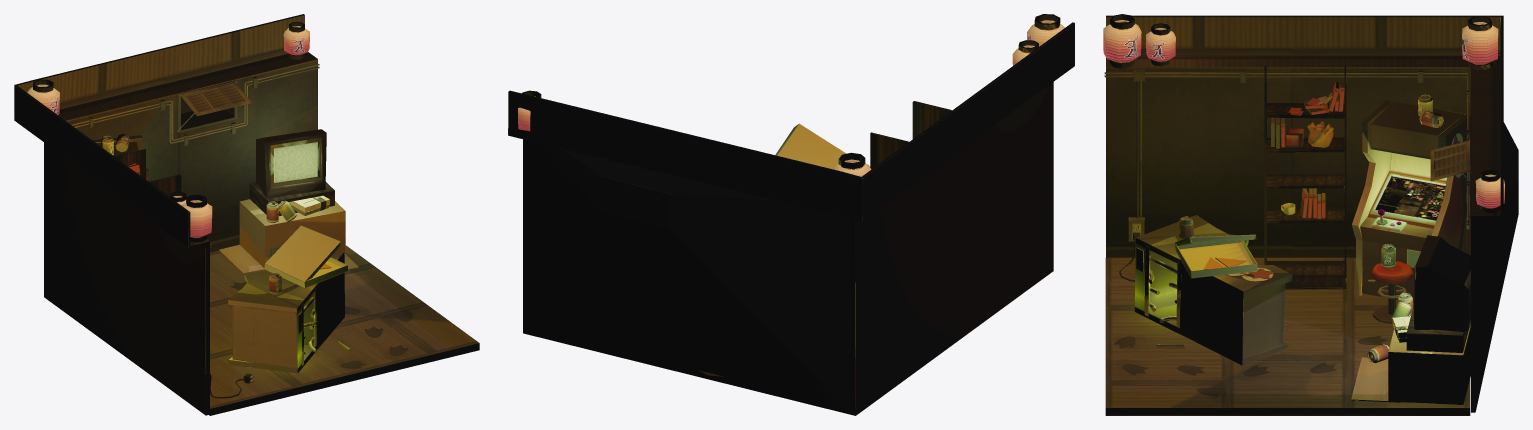
The model's file is arcade_room.glb.
3 views of the same model, side by side, from view 1: azimuth 30°, elevation 25°; view 2: azimuth 150°, elevation 25°; view 3: azimuth 270°, elevation 25° (orthographic). The views are drawn at different scales.
Parts seen in each view (by area): view 1: ArcadeBody; view 2: ArcadeBody; view 3: ArcadeBody, ArcadeCut_2.
Part boxes in pixels (x1=…): ArcadeBody: x1=14, y1=14, x2=479, y2=415; ArcadeBody: x1=508, y1=14, x2=1074, y2=415; ArcadeBody: x1=1103, y1=14, x2=1518, y2=415; ArcadeCut_2: x1=1375, y1=176, x2=1445, y2=220.
Bounding box in the file's own units: 82.36 × 57.59 × 89.23.
Materials: 1 (1 with a texture image).
